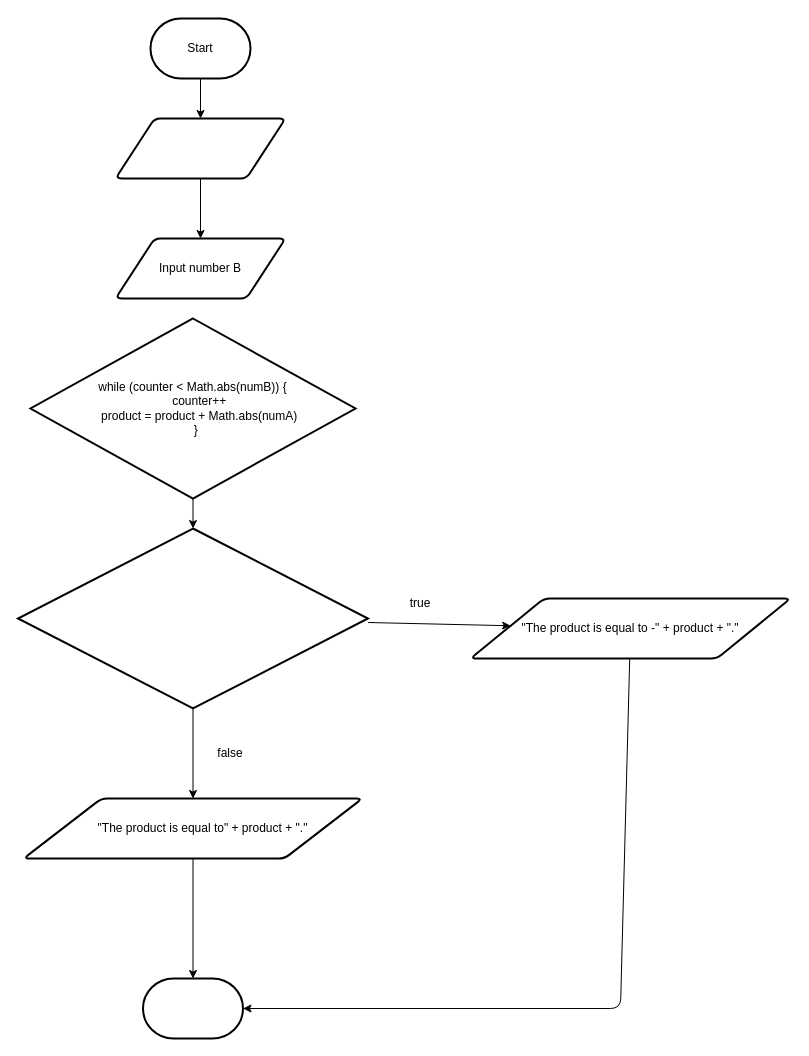
This 809x1056 diagram has some shape labels left out. Here are the shapes that lost their labels. From the top down, the box of each, then its label:
(114, 117, 286, 179): Input number A
(16, 527, 368, 709): if ((numA < 0 && numB > 0) || (numB < 0 && numA > 0))
(142, 977, 244, 1039): Stop
